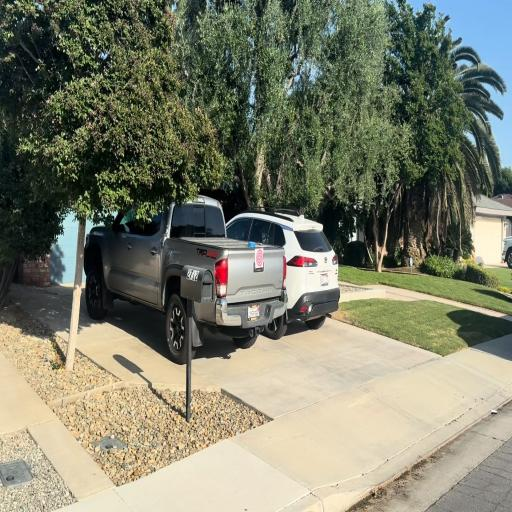bullseye: (256, 248, 264, 268)
